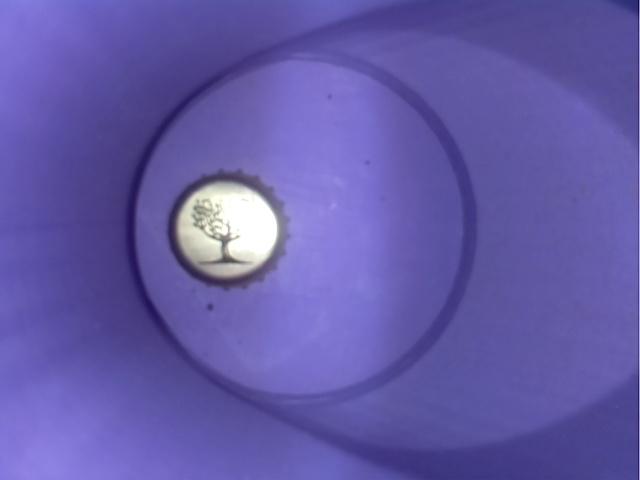capsule: (149, 162, 315, 296)
